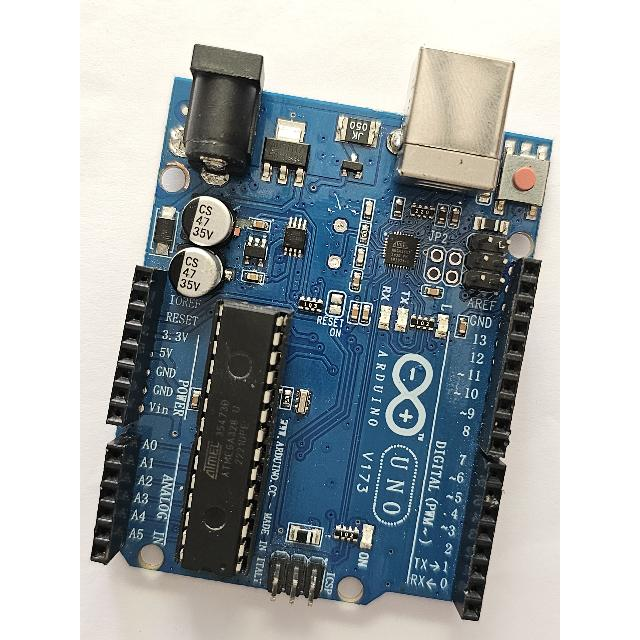missing_crystal_os: (307, 190, 362, 291)
